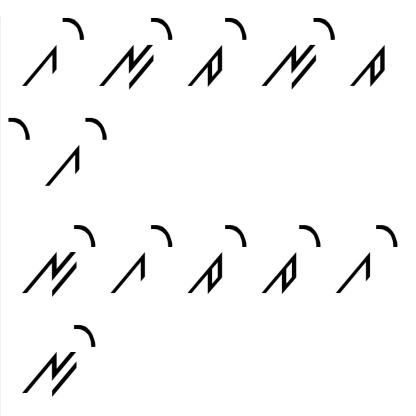gay: (43, 110, 111, 192), (336, 217, 402, 301), (107, 217, 176, 297), (17, 15, 85, 93)
ngay: (20, 314, 102, 402), (21, 214, 97, 305), (260, 12, 337, 100), (96, 15, 176, 92)
ta: (350, 37, 390, 94)
tay: (186, 215, 250, 305), (258, 220, 325, 304), (186, 11, 250, 92)
